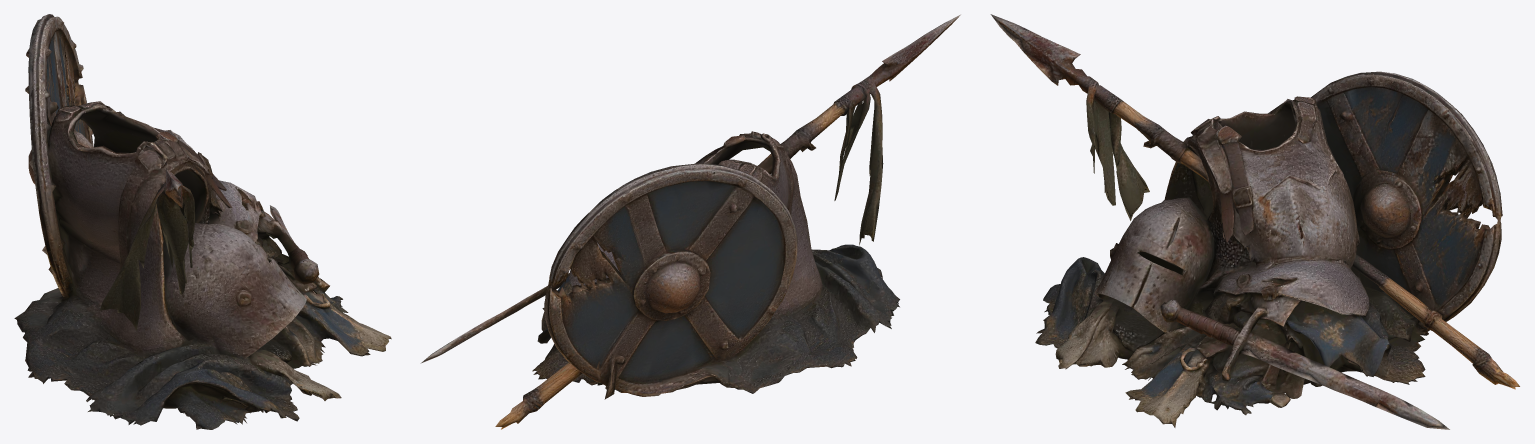
The model's file is weapon-armor-heap.glb.
3 renders of one model, left to right at view 1: azimuth 30°, elevation 25°; view 2: azimuth 150°, elevation 25°; view 3: azimuth 270°, elevation 25°, orthographic. The views are drawn at different scales.
Parts seen in each view (by area): view 1: tripo_node_63c746d6-f57c-494c-aa6d-2e33672d6273; view 2: tripo_node_63c746d6-f57c-494c-aa6d-2e33672d6273; view 3: tripo_node_63c746d6-f57c-494c-aa6d-2e33672d6273.
Part boxes in pixels (x1,y1,x2,y2): tripo_node_63c746d6-f57c-494c-aa6d-2e33672d6273: (14,14,391,429); tripo_node_63c746d6-f57c-494c-aa6d-2e33672d6273: (420,14,960,429); tripo_node_63c746d6-f57c-494c-aa6d-2e33672d6273: (990,14,1519,429).
Bounding box in the file's own units: 0.7173 × 0.5761 × 1.
Materials: 1 (1 with a texture image).
